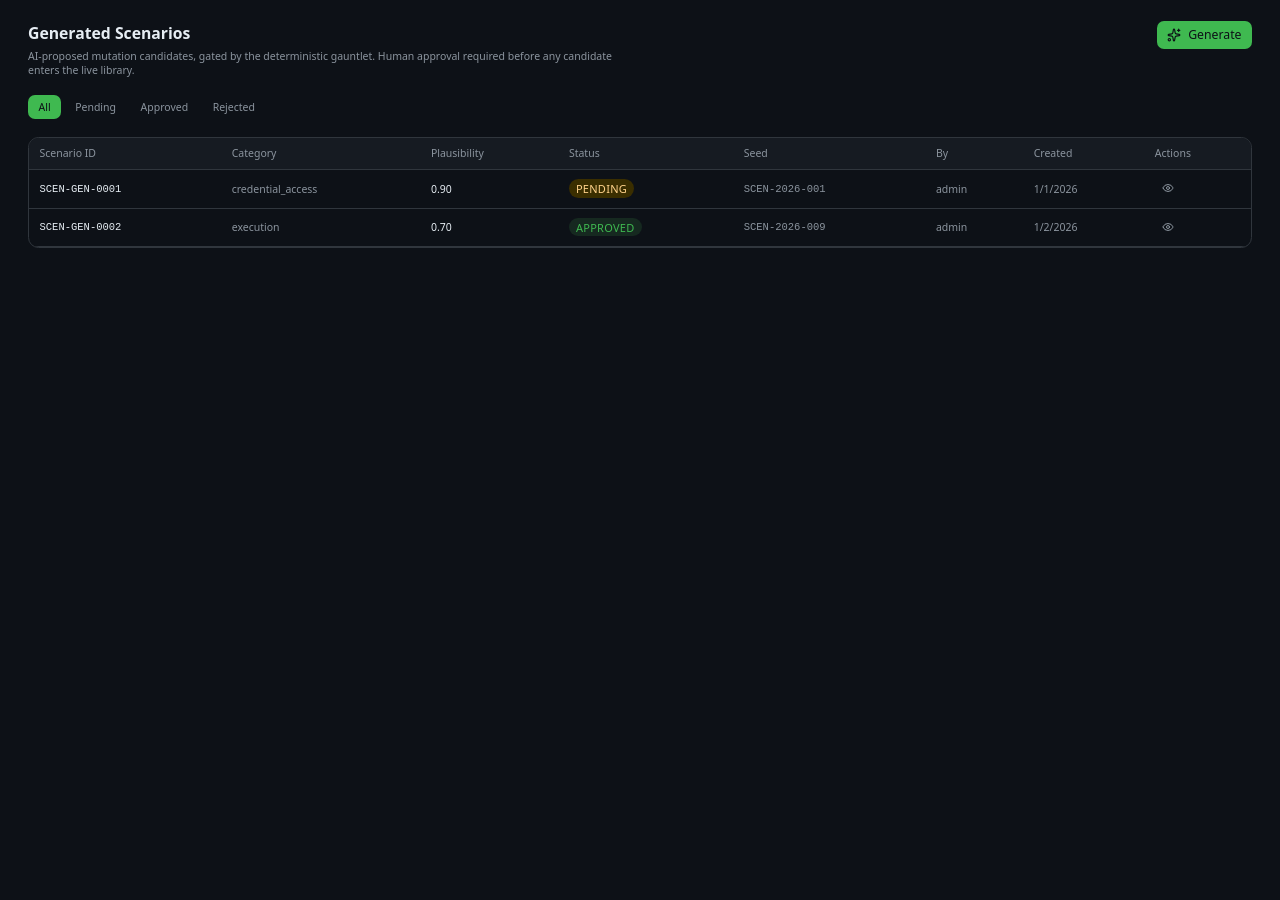
Scenario: Candidates page › approves a candidate and refreshes
Check: the text "SCEN-GEN-0001" is shown, box [29,170,221,208]
Click the button named "view candidate scen-gen-0001" at (1168, 188), box [1155,179,1181,198]
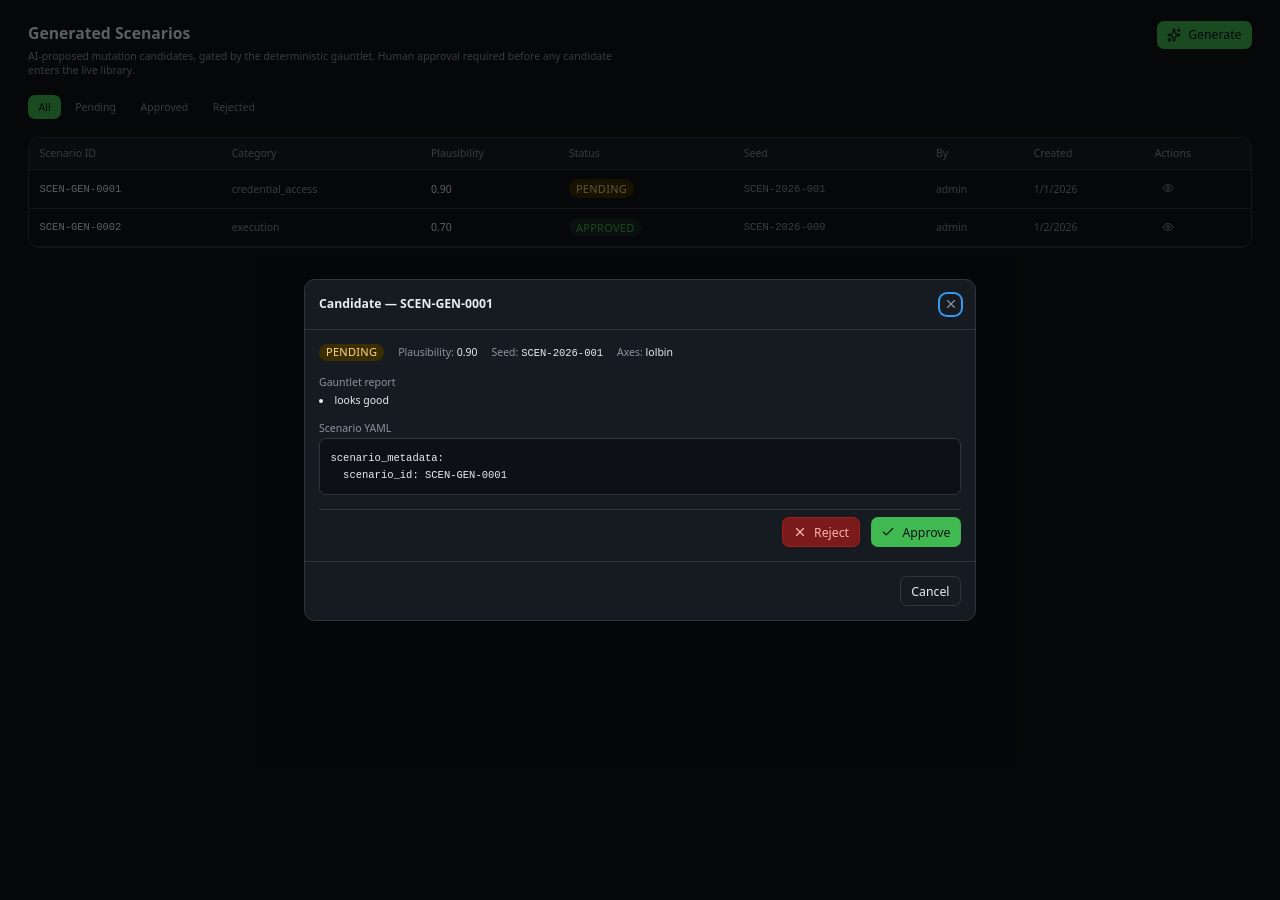
Check: the button "Approve" is shown
Click the button "Approve" at (916, 532), box [871,517,961,547]
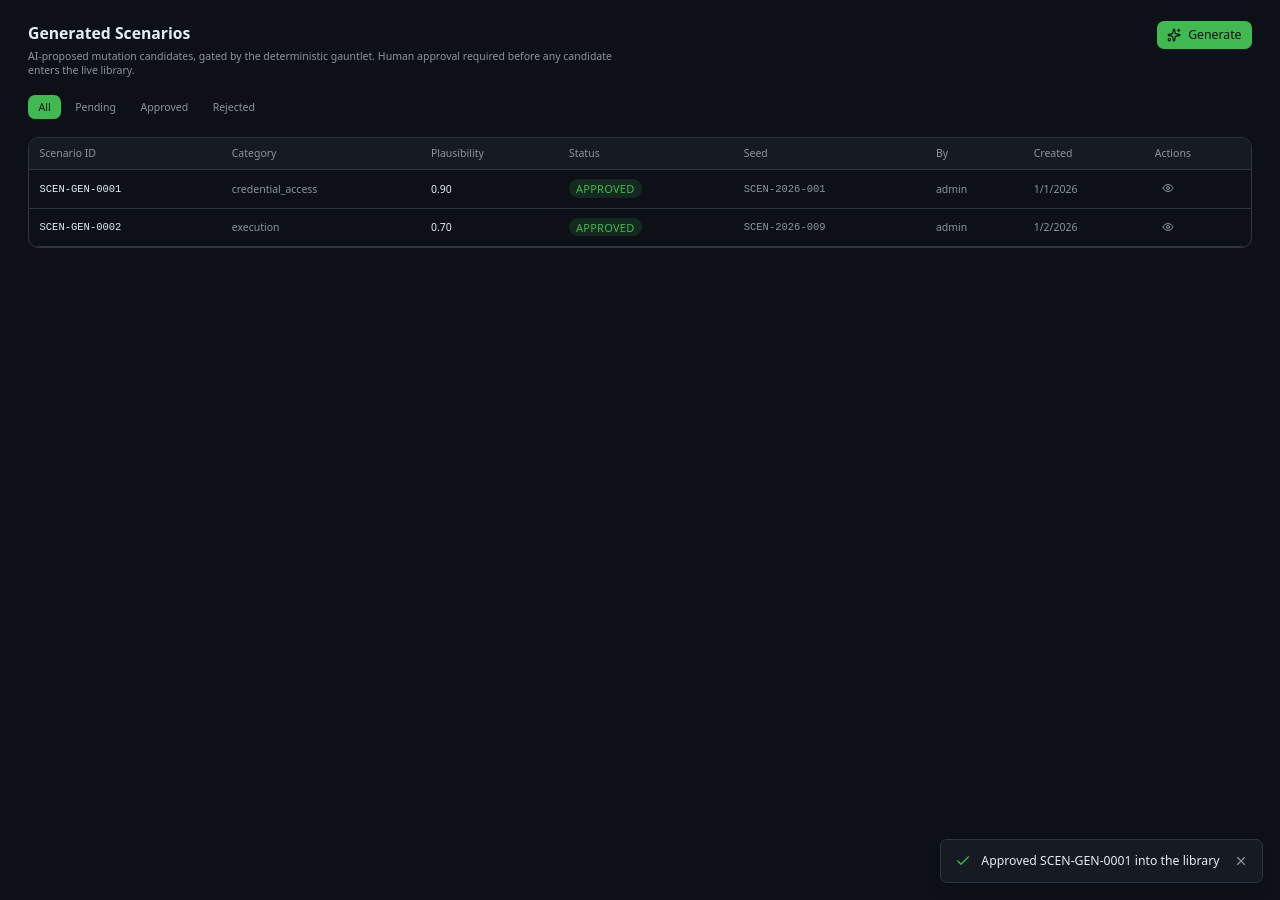
Check: the message shows "Approved", box [981,852,1220,869]
